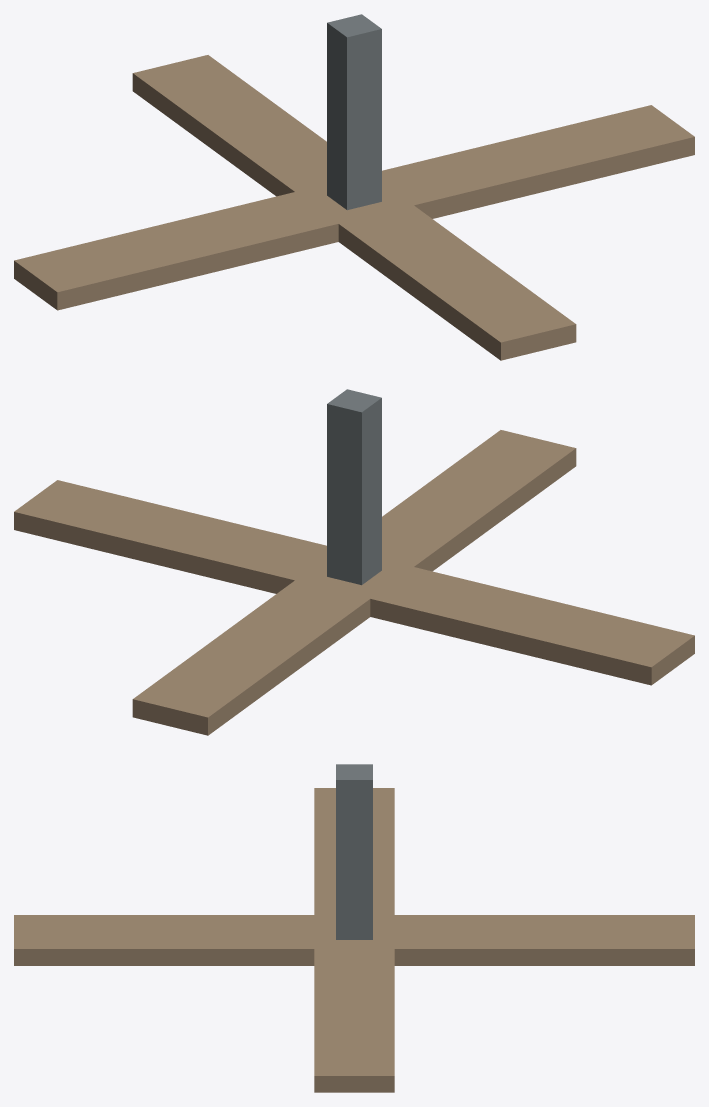
Rendered from ceiling_fan.glb.
3 views of the same model, one above another, from view 1: azimuth 30°, elevation 25°; view 2: azimuth 150°, elevation 25°; view 3: azimuth 270°, elevation 25° (orthographic). The views are drawn at different scales.
Parts seen in each view (by area): view 1: fan_blades, body; view 2: fan_blades, body; view 3: fan_blades, body.
Boxes of the visible parts, x1=… form: fan_blades: x1=14, y1=55, x2=694, y2=360; body: x1=327, y1=14, x2=381, y2=210; fan_blades: x1=14, y1=430, x2=694, y2=735; body: x1=327, y1=389, x2=381, y2=585; fan_blades: x1=14, y1=788, x2=694, y2=1092; body: x1=336, y1=764, x2=372, y2=939.
Bounding box in the file's own units: 1.1 × 0.315 × 1.1.
